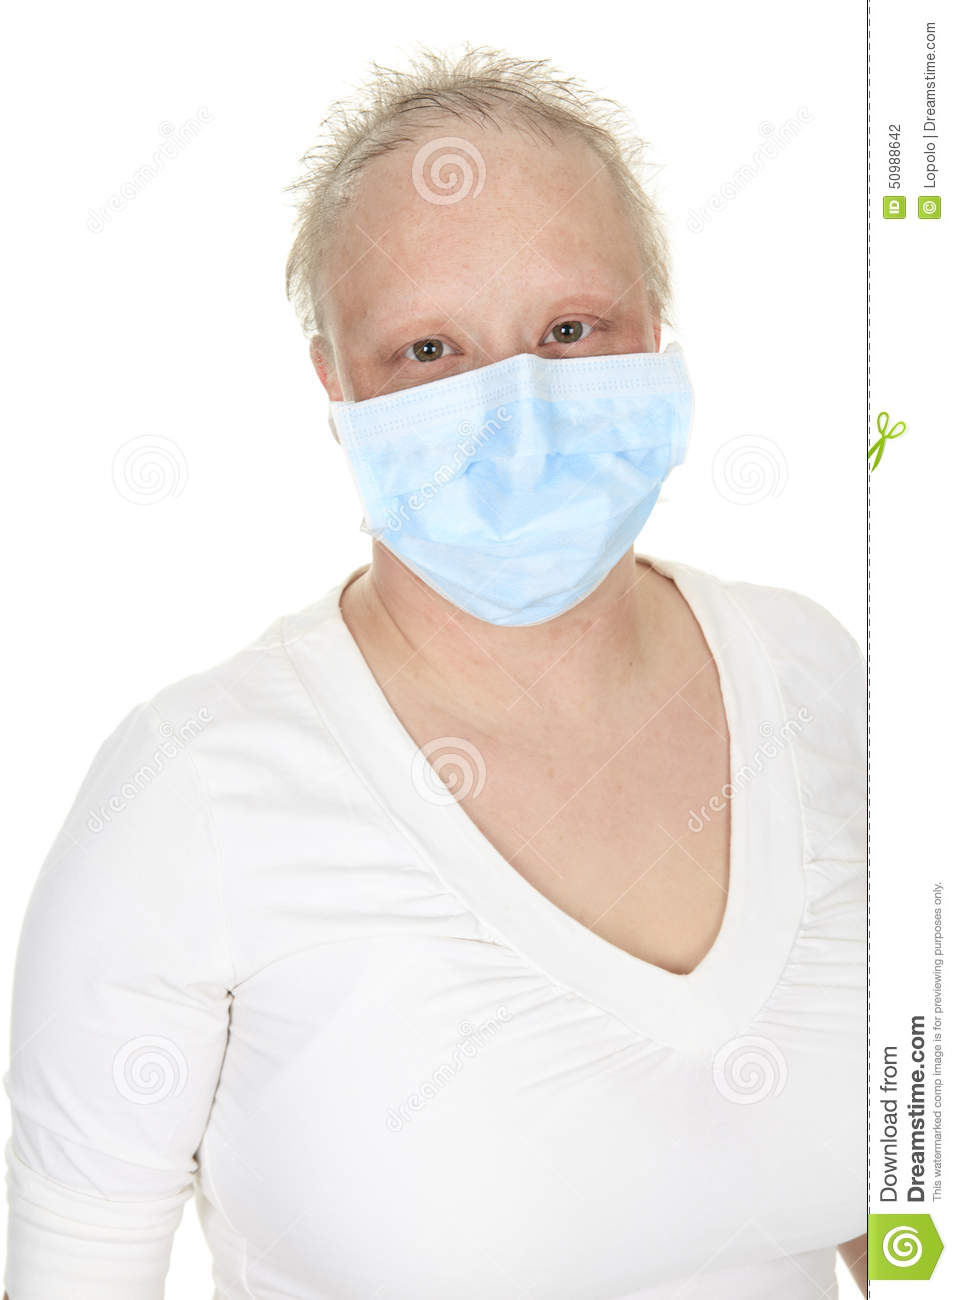mask: (344, 351, 696, 626)
